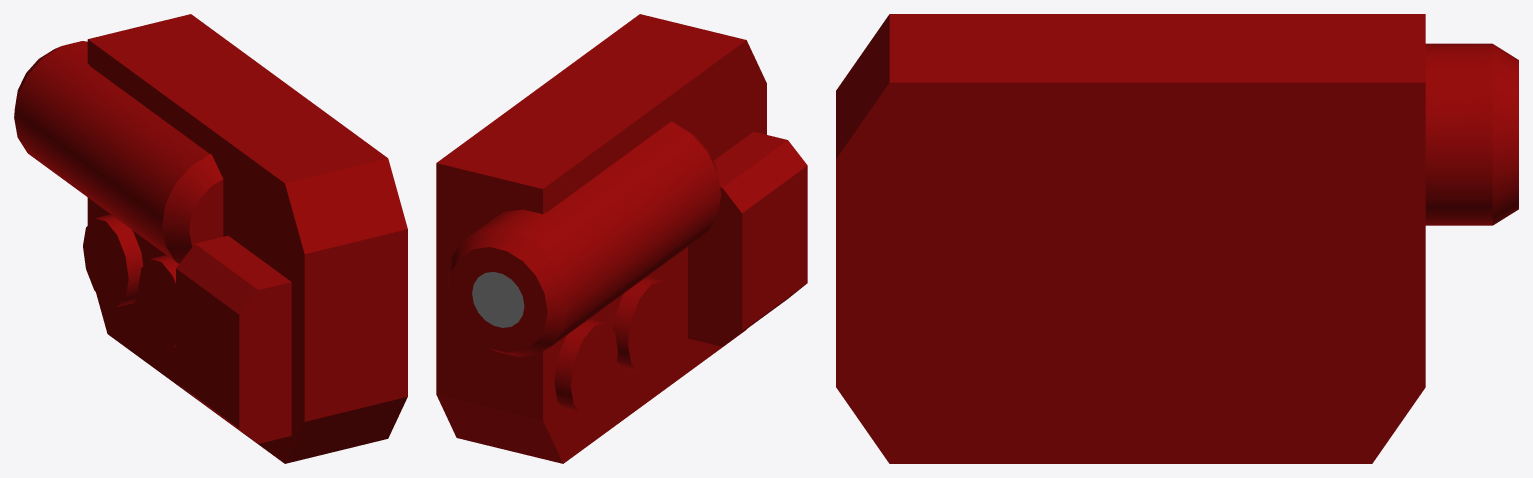
The model's file is M_weapon_laser_mod.FBX.
The picture shows the model from 3 angles, left to right: view 1: azimuth 30°, elevation 25°; view 2: azimuth 150°, elevation 25°; view 3: azimuth 270°, elevation 25°; orthographic projection. The views are drawn at different scales.
Parts seen in each view (by area): view 1: Laser_low; view 2: Laser_low; view 3: Laser_low.
Part boxes in pixels (bbox=[...]): Laser_low: bbox=[14, 14, 407, 463]; Laser_low: bbox=[436, 14, 807, 463]; Laser_low: bbox=[836, 14, 1518, 463].
Bounding box in the file's own units: 3.89 × 10.88 × 6.7.
